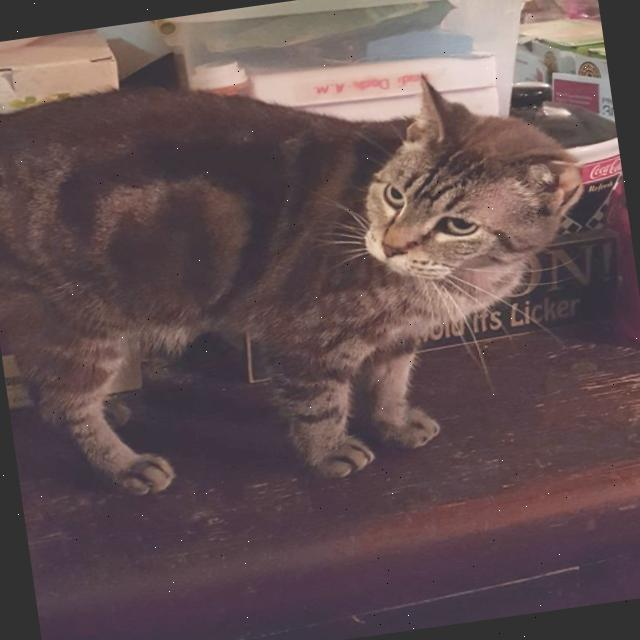american_shorthair_cat: (303, 46, 612, 314)
